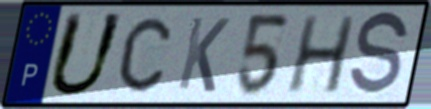5: (232, 10, 294, 99)
C: (116, 14, 174, 95)
H: (283, 13, 358, 96)
K: (174, 14, 233, 95)
S: (346, 8, 412, 101)
U: (44, 10, 129, 100)
